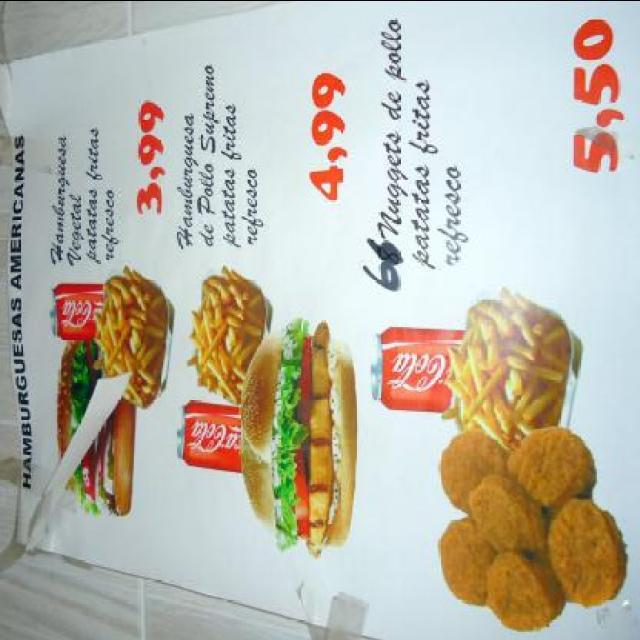Hamburger: (240, 318, 356, 556), (58, 339, 134, 516)
